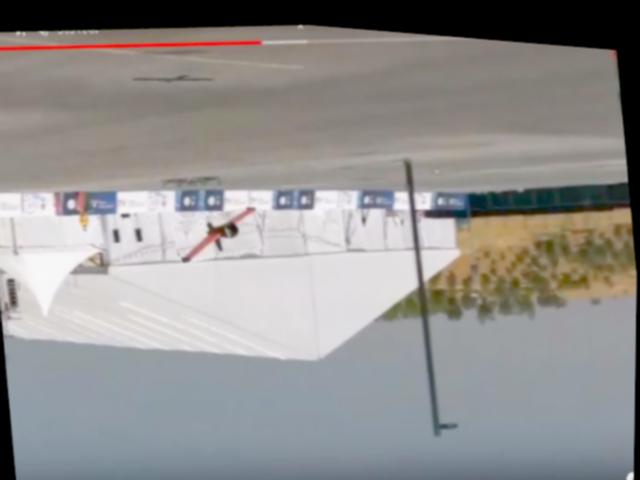insansiz-hava-araci: (173, 198, 267, 262)
